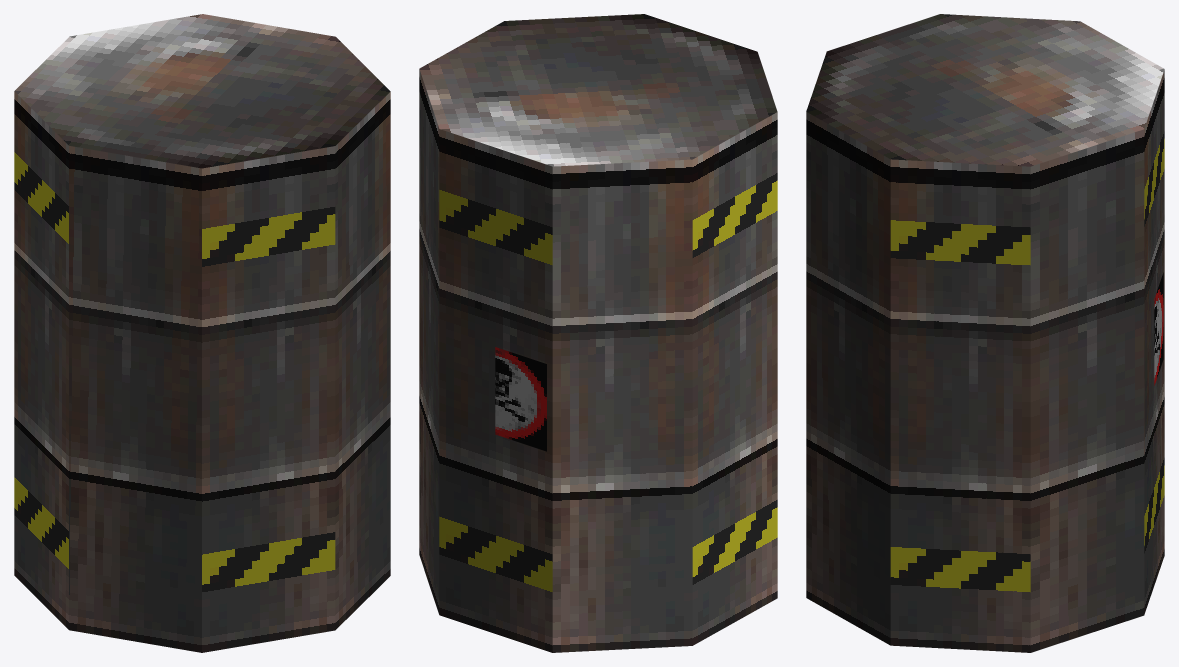
File: primary_150.glb
3 renders of one model, left to right at view 1: azimuth 30°, elevation 25°; view 2: azimuth 150°, elevation 25°; view 3: azimuth 270°, elevation 25°, orthographic.
Visible parts, largest first — view 1: Object; view 2: Object; view 3: Object.
Boxes of the visible parts, x1,y1,x2,y2 form: Object: (14, 14, 390, 652); Object: (419, 14, 777, 652); Object: (806, 14, 1164, 652).
Size of the model in its own units: 0.6848 by 1.02 by 0.6795.
Materials: 9 (9 with a texture image).
